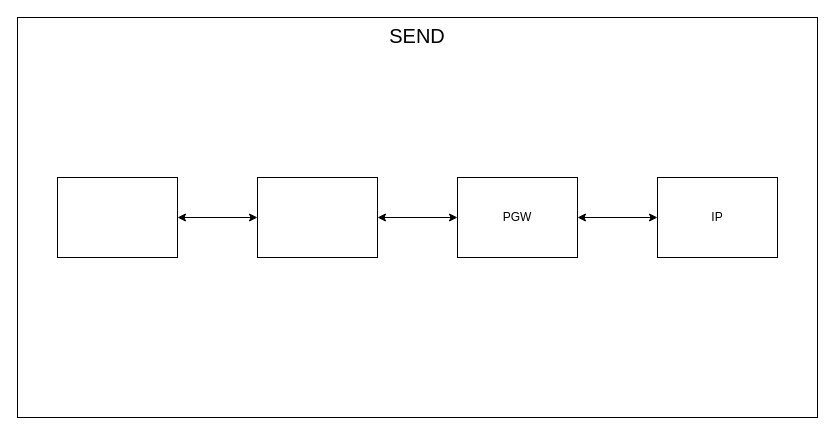
The diagram is 835 pixels wide and 435 high, and some of its shapes have lost their labels. The shapes that lost their labels are listed below. From the top down, each one's centre as x and y in pixels, then its label:
At (x=117, y=217): "User".
At (x=317, y=217): "SGW".
